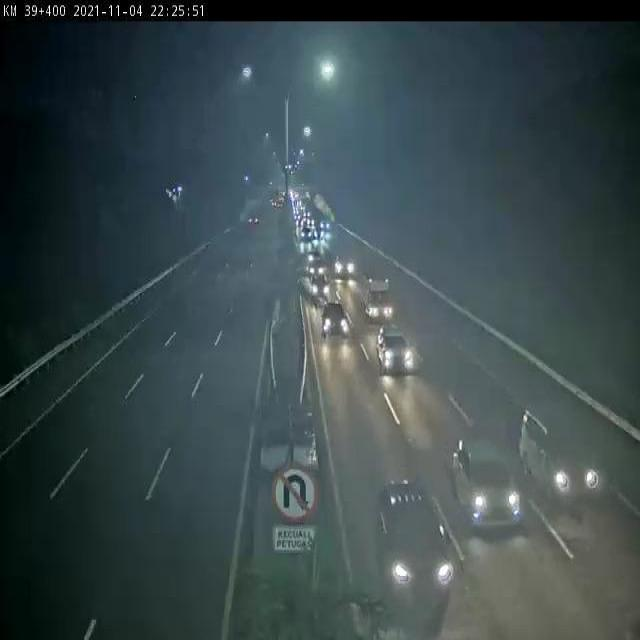car: (371, 481, 452, 603), (522, 404, 606, 500), (452, 432, 525, 537), (376, 323, 417, 377), (320, 300, 354, 340), (334, 252, 355, 279), (310, 271, 329, 300)
truck-s-: (362, 275, 394, 324)
